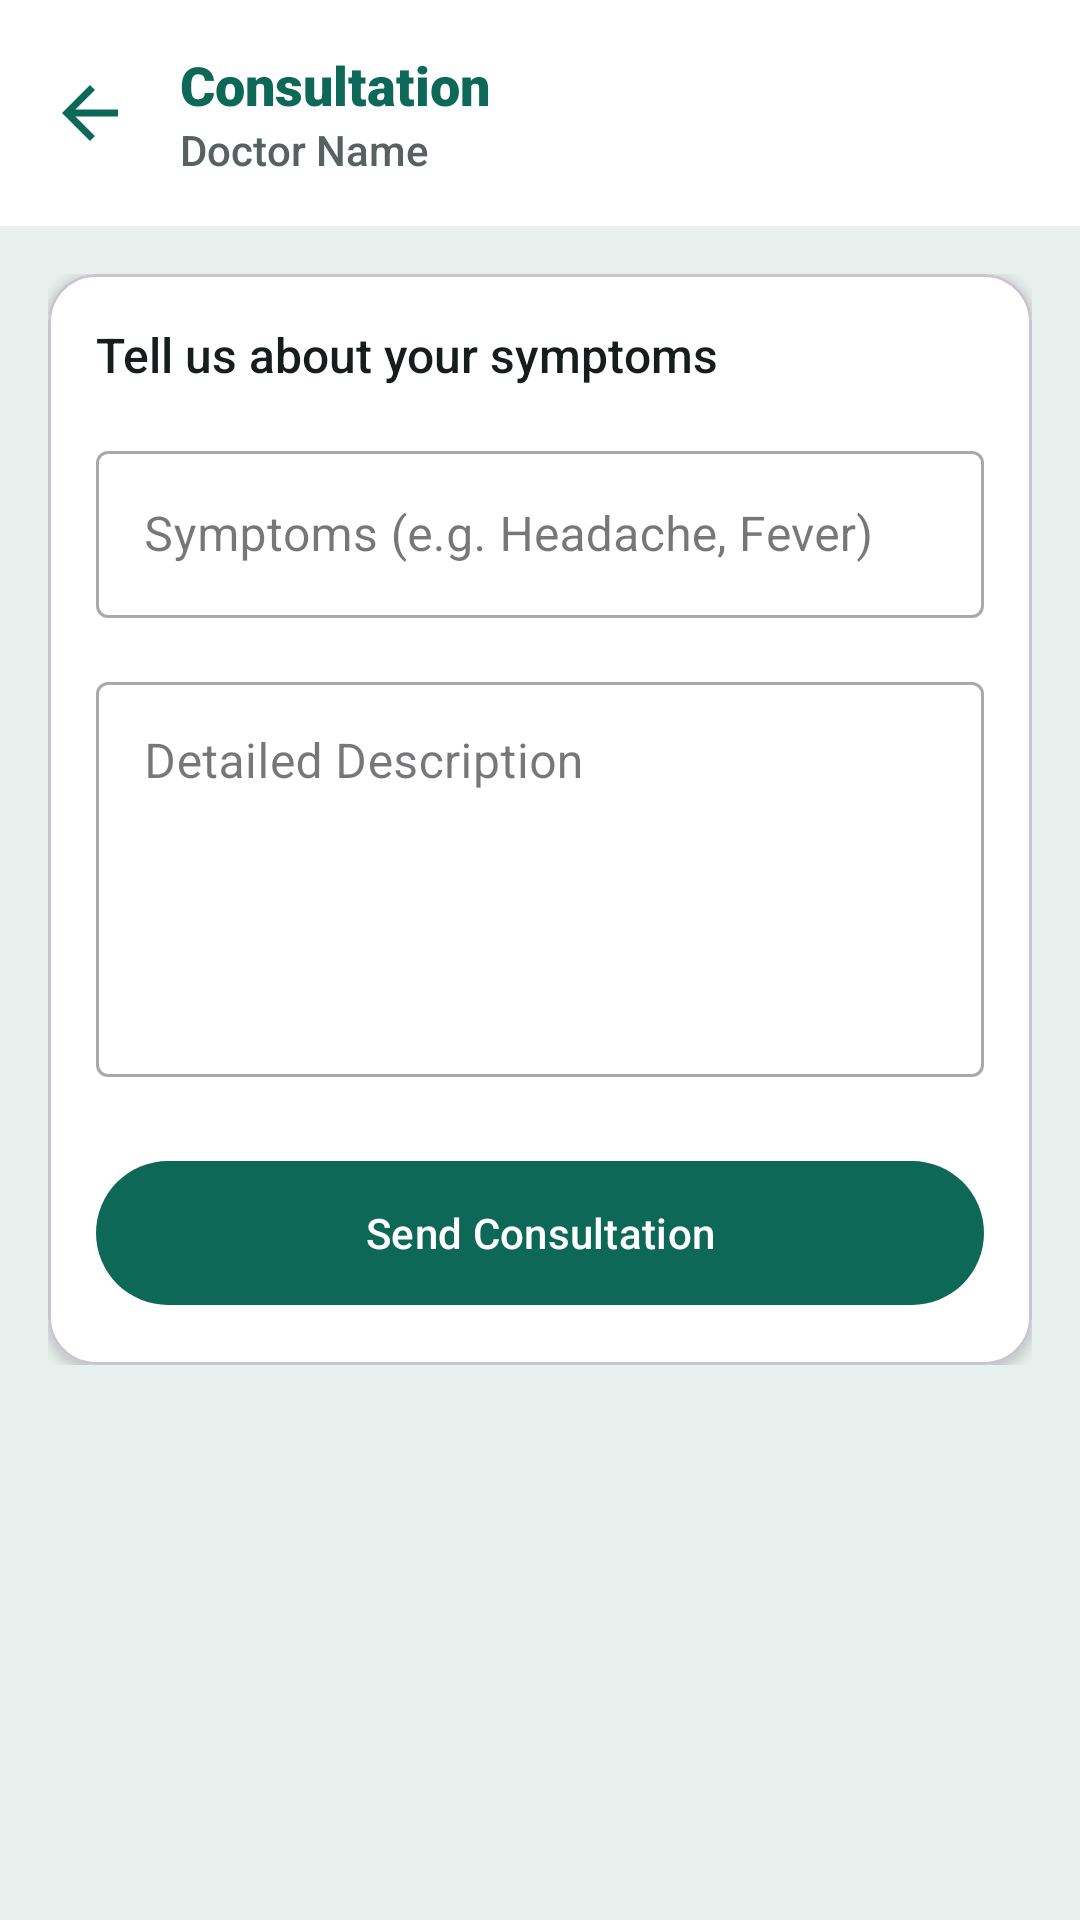

Screen size 1080×1920. Icon name, then its box in pixels as bbox=(x1, y1, x2, y2):
back: bbox=(62, 85, 118, 141)
